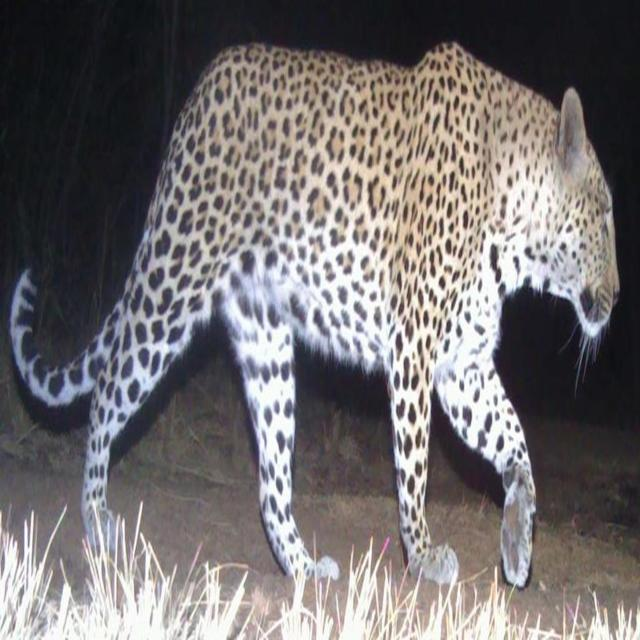Leopard: (3, 54, 634, 622)
